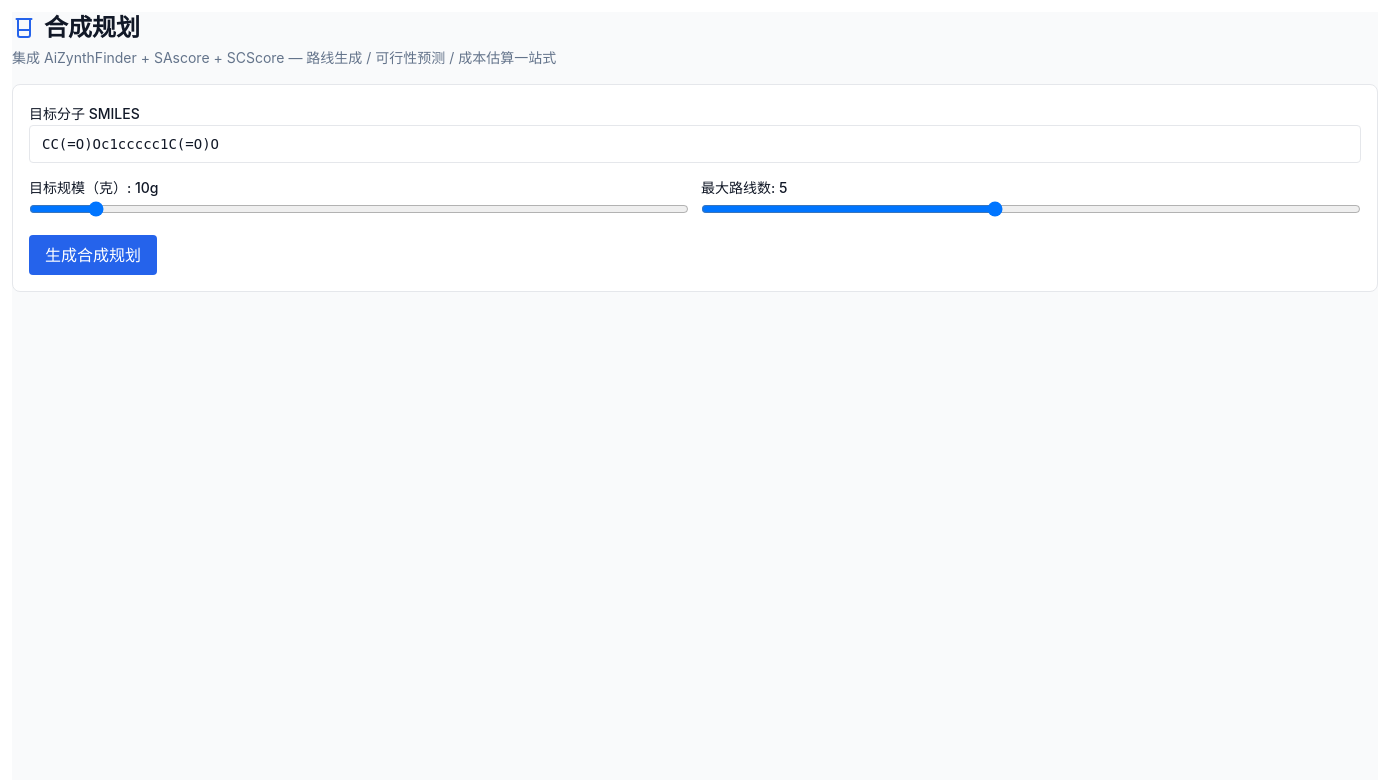
SynthesisPage › 成功后展示可行性评估卡片
Click the button "生成合成规划" at (93, 255), box [29,235,157,275]
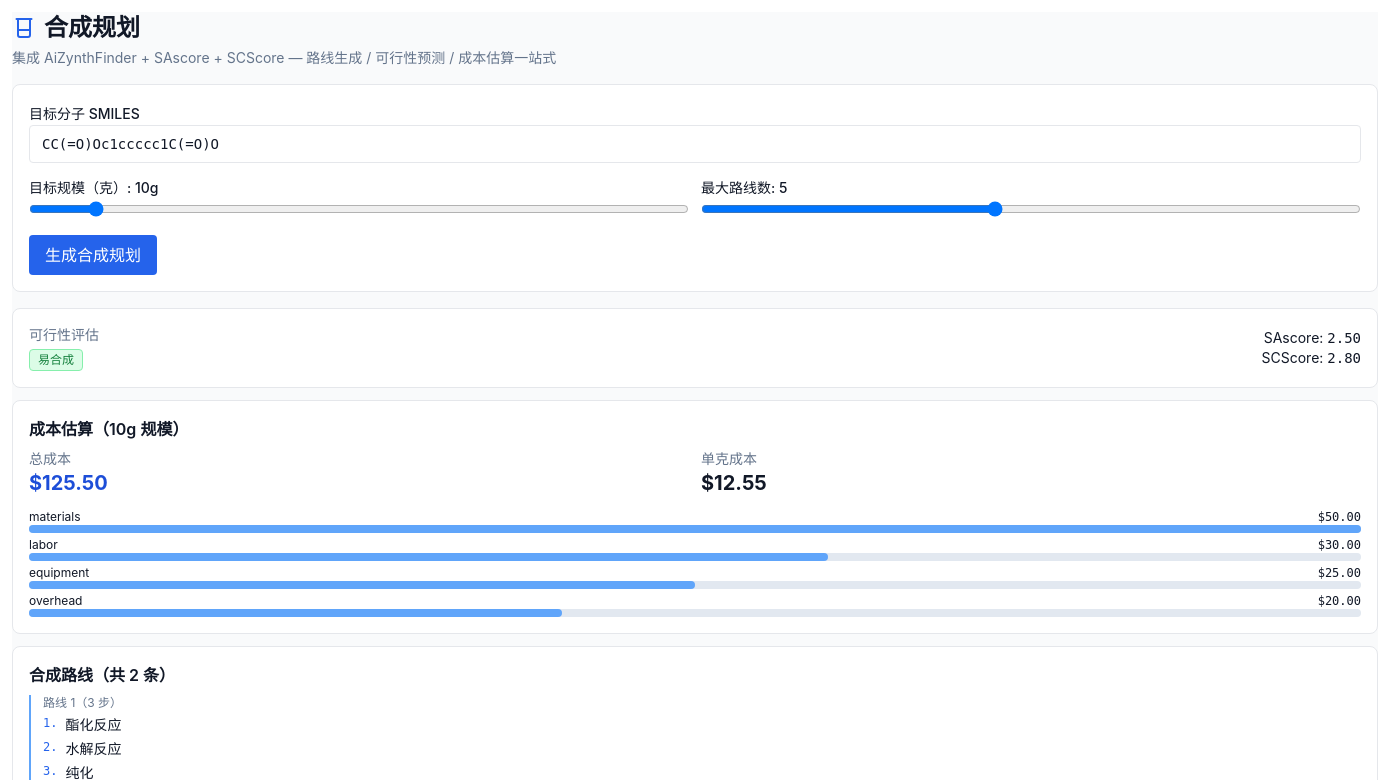
Expected: the text "可行性评估" is shown, [29,325,99,345]
Expected: the text "SAscore: 2.50" is shown, [1262,328,1361,348]
